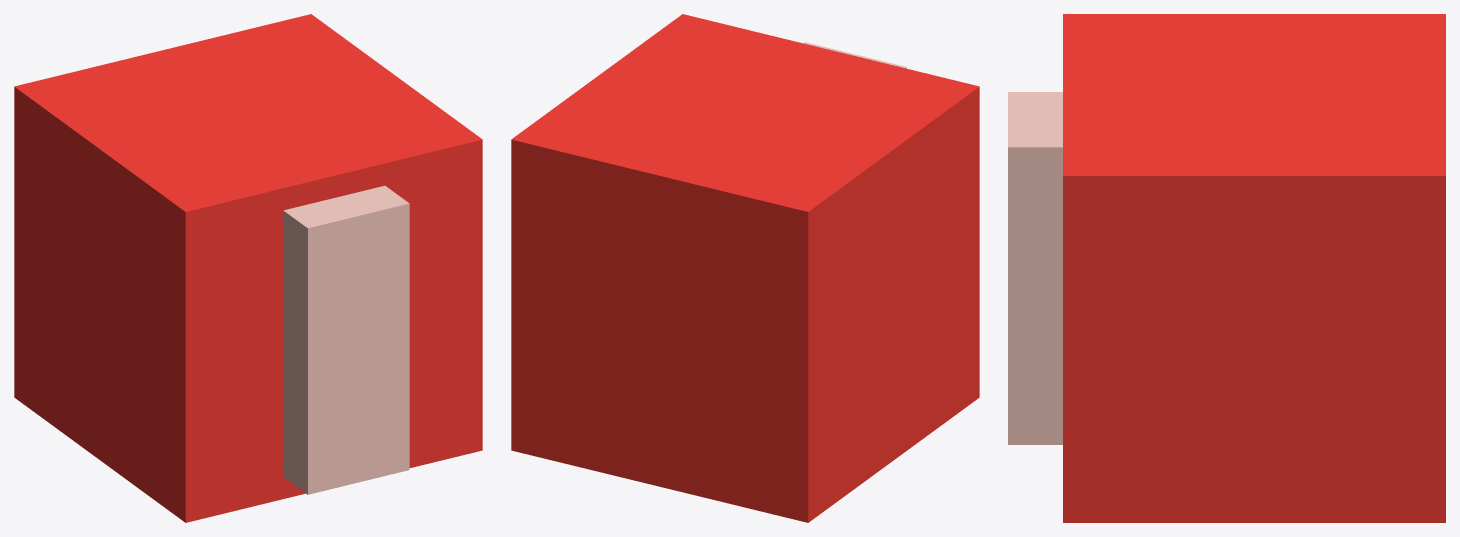
File: robot_beacon.obj
The picture shows the model from 3 angles, left to right: view 1: azimuth 30°, elevation 25°; view 2: azimuth 150°, elevation 25°; view 3: azimuth 270°, elevation 25°; orthographic projection. The views are drawn at different scales.
Parts seen in each view (by area): view 1: robot_beacon; view 2: robot_beacon; view 3: robot_beacon.
Boxes of the visible parts, bbox=[...] form: robot_beacon: bbox=[14, 14, 482, 522]; robot_beacon: bbox=[511, 14, 979, 522]; robot_beacon: bbox=[1008, 14, 1445, 522].
Size of the model in its own units: 0.07 by 0.07 by 0.08.
Materials: 1 (1 with a texture image).
